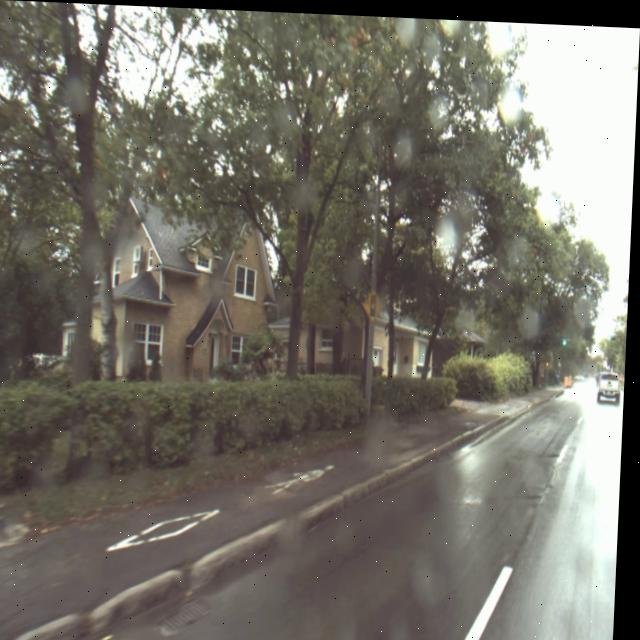car: (600, 365, 625, 399)
trafficLight-Green: (564, 333, 570, 343)
